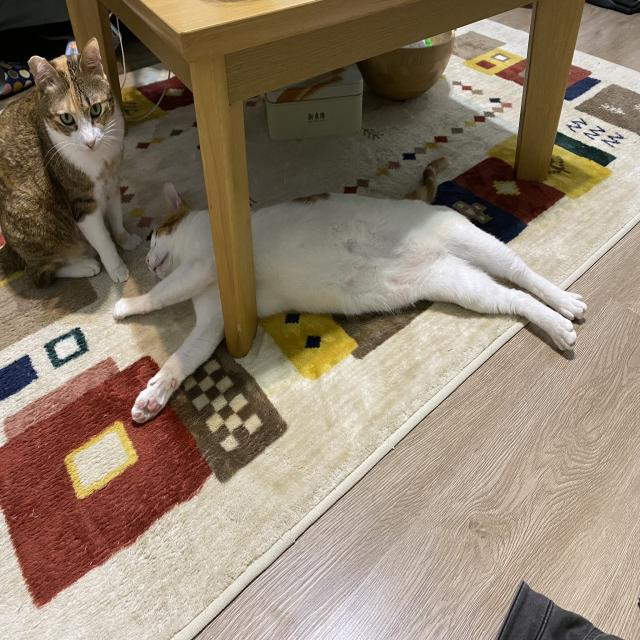cat1: (114, 176, 588, 427)
cat2: (0, 34, 146, 293)
